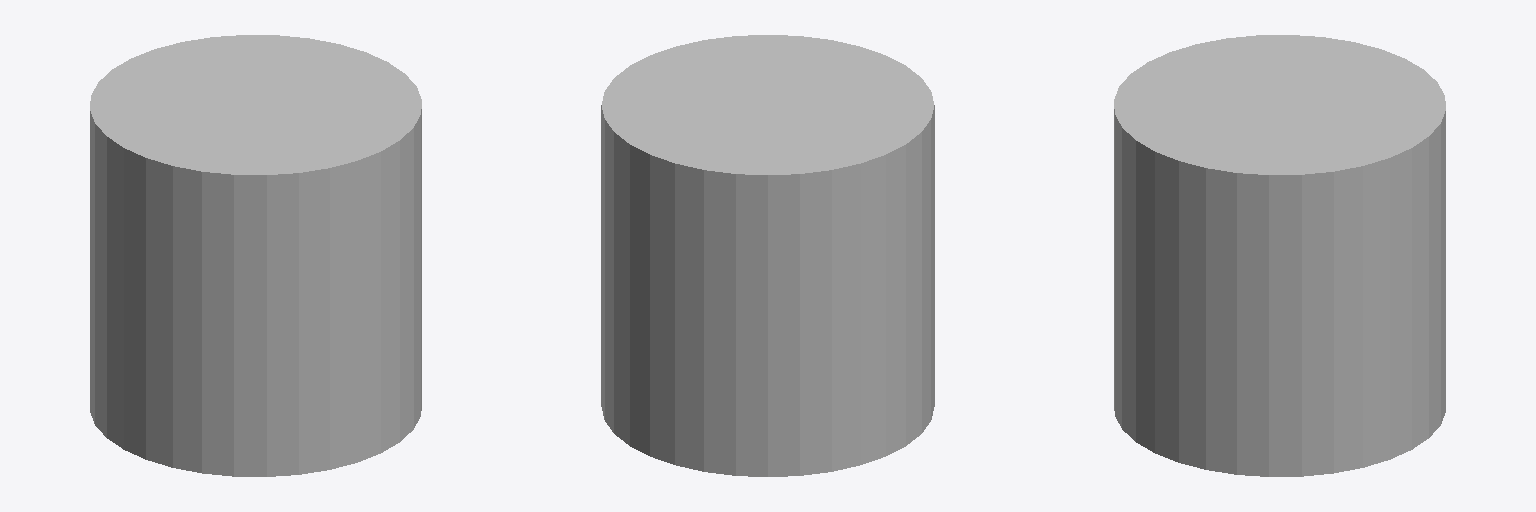
File: candy_thing.obj
3 renders of one model, left to right at view 1: azimuth 30°, elevation 25°; view 2: azimuth 150°, elevation 25°; view 3: azimuth 270°, elevation 25°, orthographic.
Visible parts, largest first — view 1: Candy_thing_Cylinder; view 2: Candy_thing_Cylinder; view 3: Candy_thing_Cylinder.
Part boxes in pixels (left/top/right/bottom): Candy_thing_Cylinder: left=90, top=35, right=421, bottom=476; Candy_thing_Cylinder: left=601, top=35, right=934, bottom=476; Candy_thing_Cylinder: left=1114, top=35, right=1445, bottom=476.
Bounding box in the file's own units: 0.4126 × 0.4135 × 0.4126.